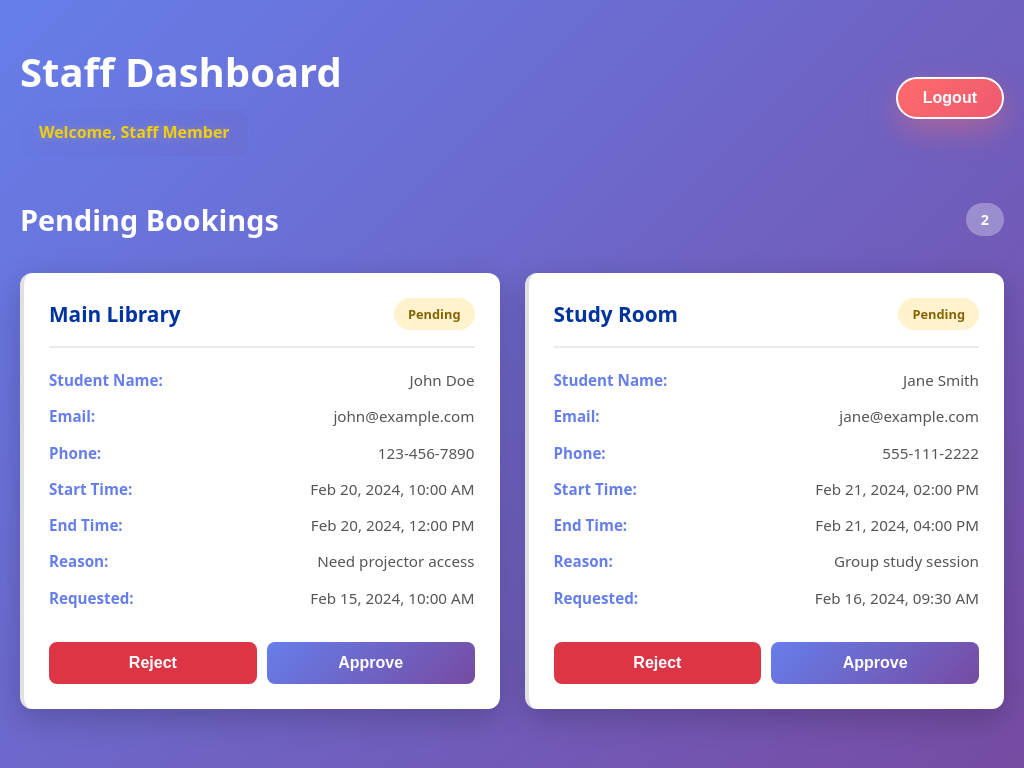
Scenario: StaffDashboard Page Component › closes modal when overlay is clicked
Expected: the heading "Main Library" is shown, top-left (49, 300), bottom-right (181, 328)
Click the button "Approve" below "Feb 15, 2024, 10:00 AM": click(371, 663) top-left (267, 642), bottom-right (475, 684)
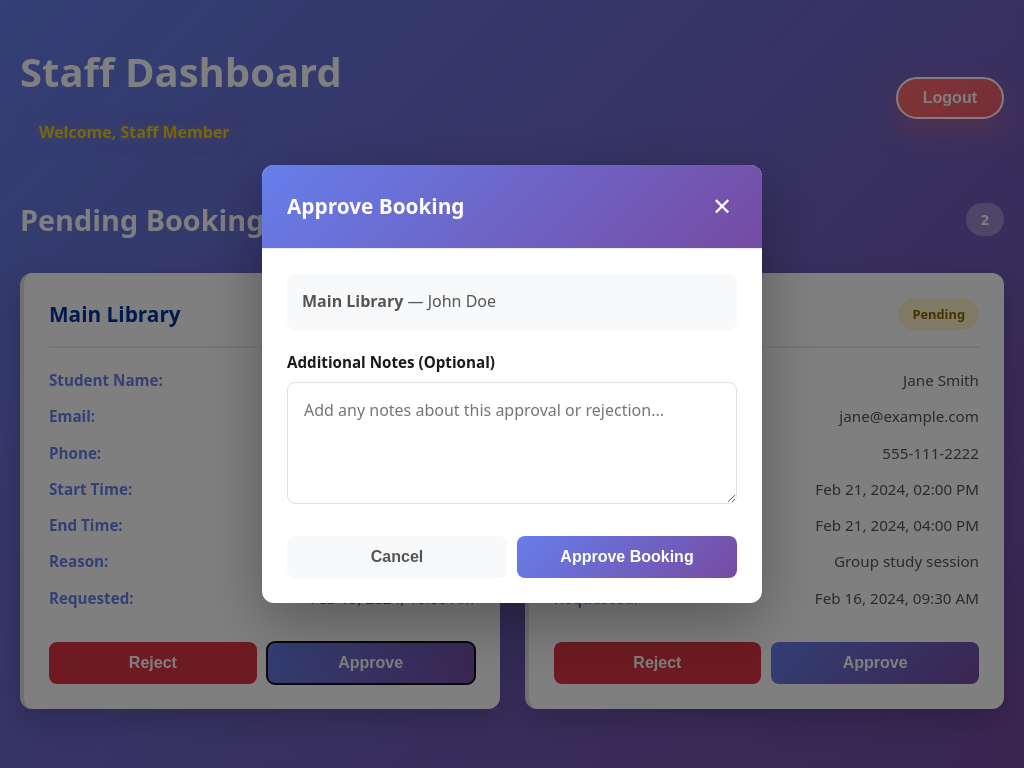
Result: the heading "Approve Booking" is shown at top-left (287, 190), bottom-right (464, 223)
Click the element with test id "booking-action-modal-overlay": click(61, 384) top-left (0, 0), bottom-right (1023, 767)
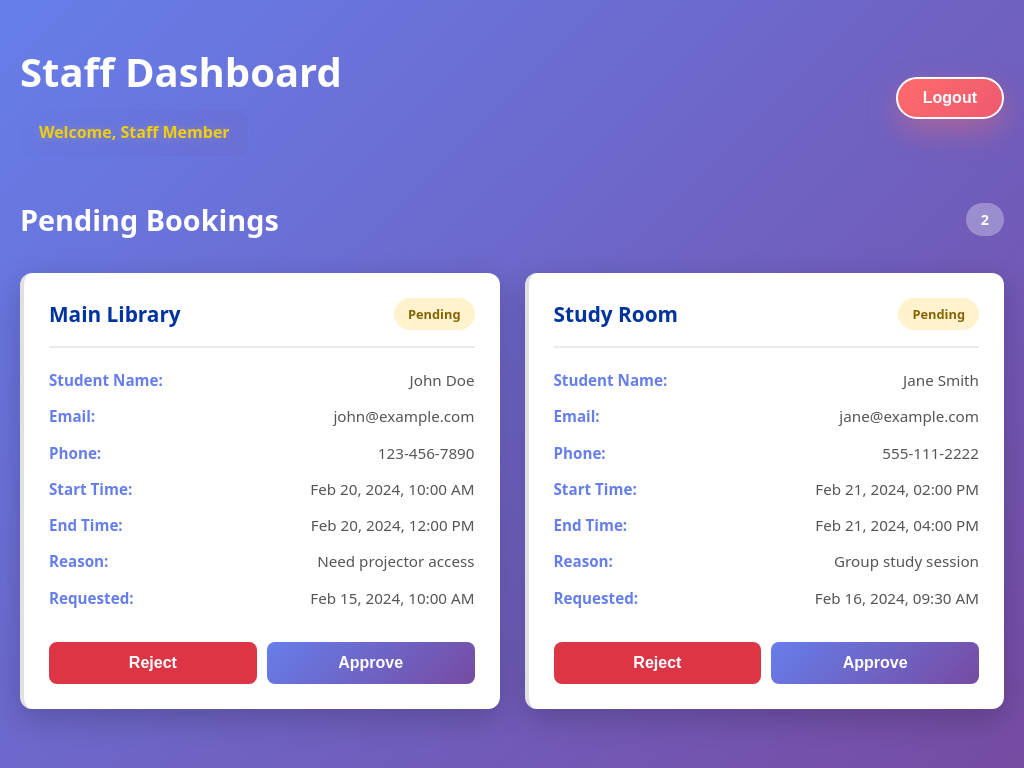
Result: the heading "Approve Booking" is gone
